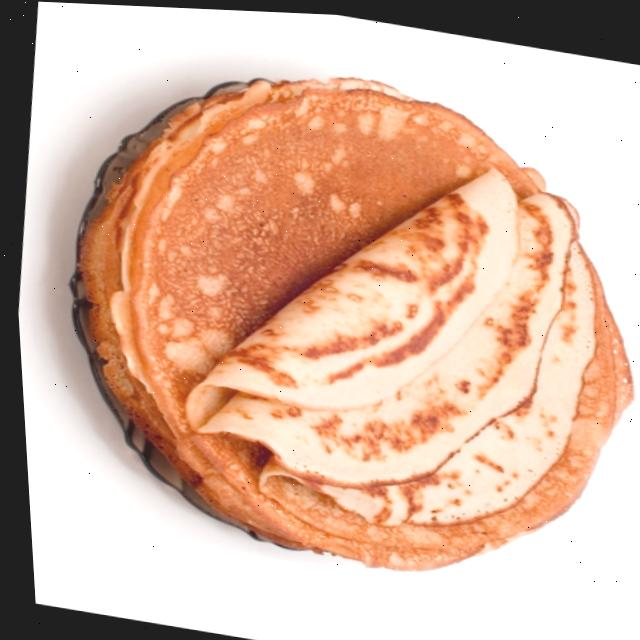蛋糕甜品: (3, 8, 640, 619)
